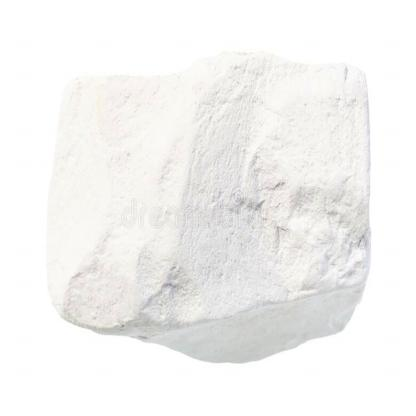Sedimentary_Chalk: (35, 39, 385, 371)
